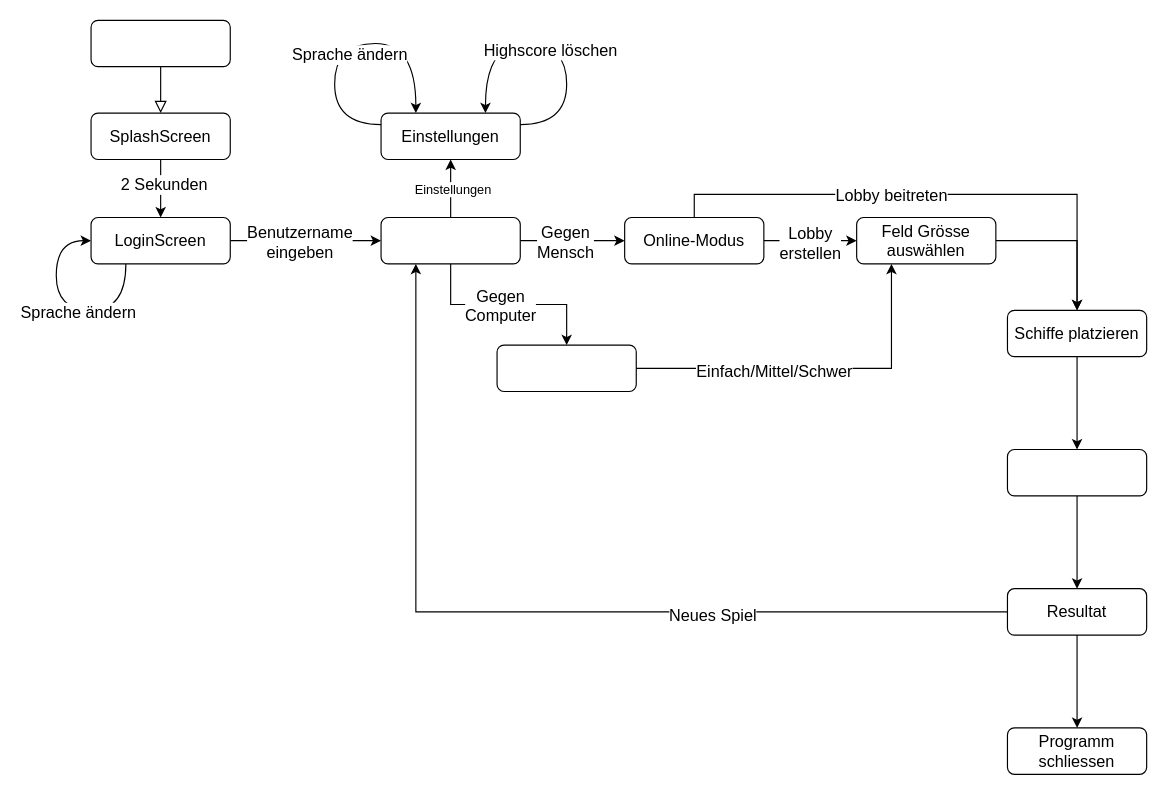
The diagram is 1167 pixels wide and 795 high, and some of its shapes have lost their labels. Each missing label, with the centre of its shape:
"BattleShip Start" belongs at point (160, 43).
"Hauptmenue" belongs at point (450, 240).
"Schwierigkeitsgrad" belongs at point (566, 368).
"Spiel Start/spielen" belongs at point (1076, 472).
